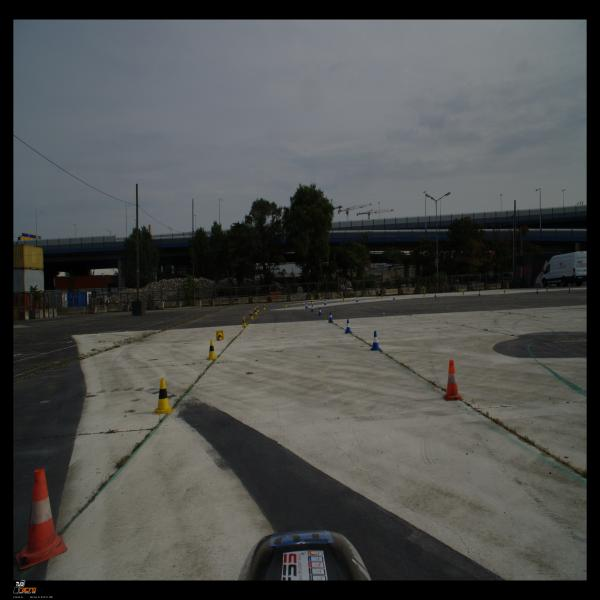blue_cone: (370, 331, 381, 351), (344, 319, 353, 333), (328, 312, 334, 323), (318, 307, 323, 316), (311, 304, 314, 312), (305, 302, 308, 308), (434, 292, 437, 298), (536, 288, 539, 294), (324, 300, 327, 305), (478, 291, 481, 296), (393, 294, 395, 300), (356, 297, 358, 302)
orange_cone: (15, 468, 68, 570), (442, 360, 464, 401), (568, 287, 572, 293)
yellow_cone: (153, 378, 174, 414), (206, 339, 218, 360), (216, 330, 224, 341), (242, 317, 247, 327), (249, 311, 254, 319), (254, 308, 258, 315), (256, 306, 260, 312), (262, 304, 266, 310), (284, 301, 288, 307), (342, 297, 345, 302), (423, 292, 426, 297), (462, 291, 465, 295), (503, 289, 506, 293), (546, 286, 548, 292), (381, 294, 383, 299), (311, 300, 313, 304)
